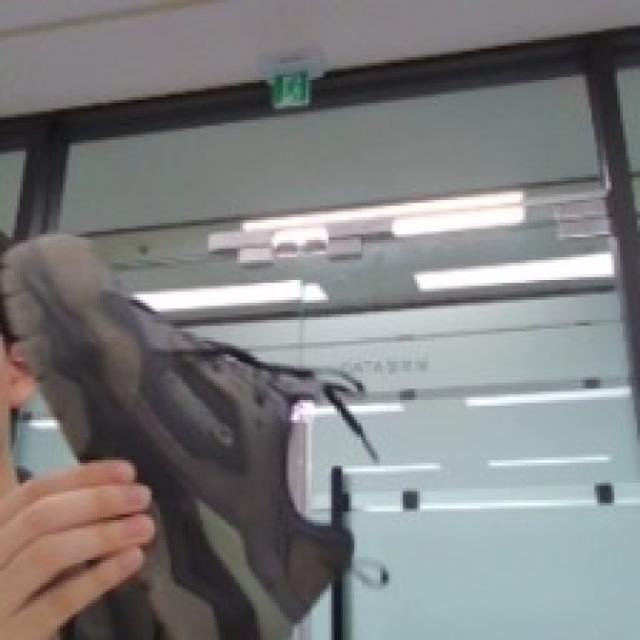shoe: (0, 229, 407, 640)
